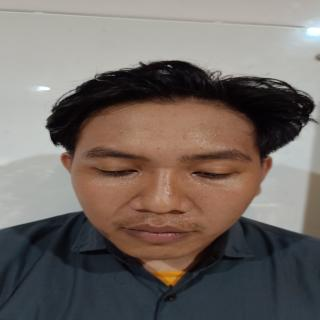Sedih: (57, 97, 274, 265)
